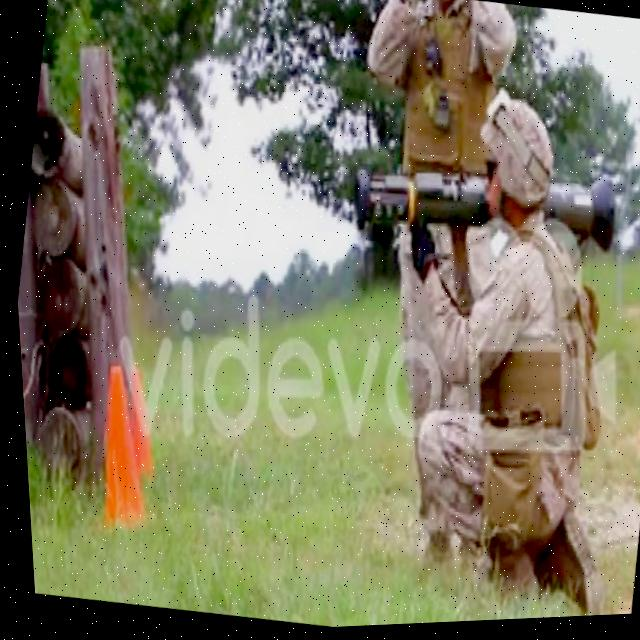rocket: (340, 131, 625, 293)
